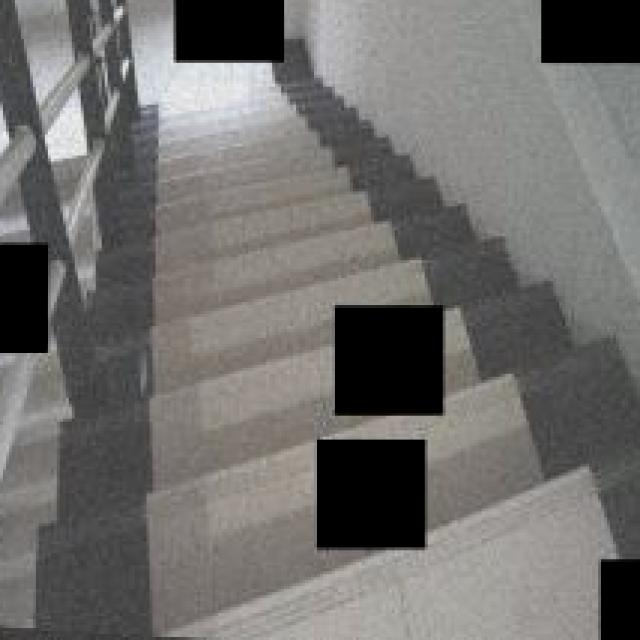downstair: (111, 93, 306, 640)
